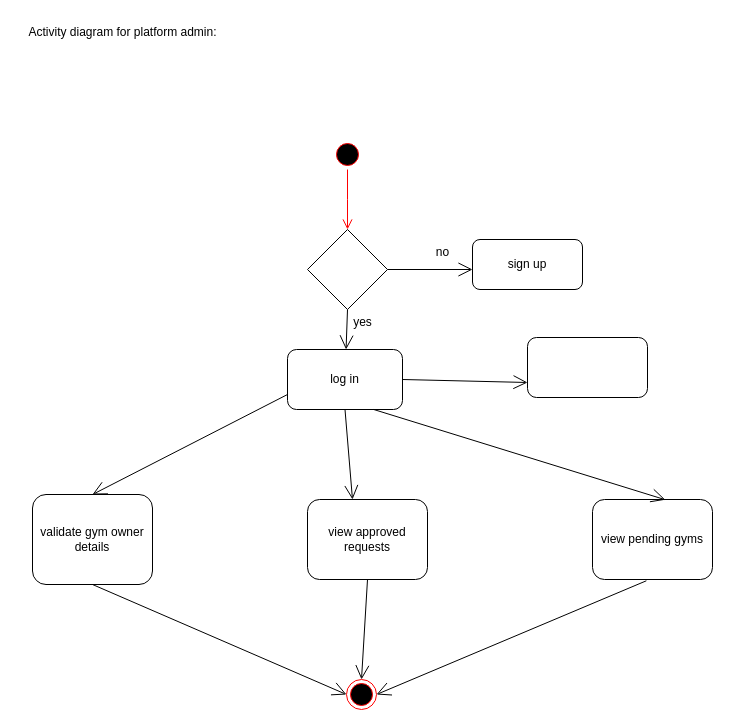
The diagram is 730 pixels wide and 727 high, and some of its shapes have lost their labels. The shapes that lost their labels are listed below. From the top down, each one's centre as x and y in pixels, then its label:
point (347, 269): Existing admin?
point (587, 367): Edit details
